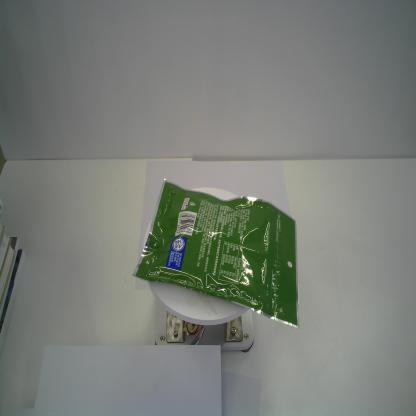Dried Fruit: (131, 176, 301, 330)
